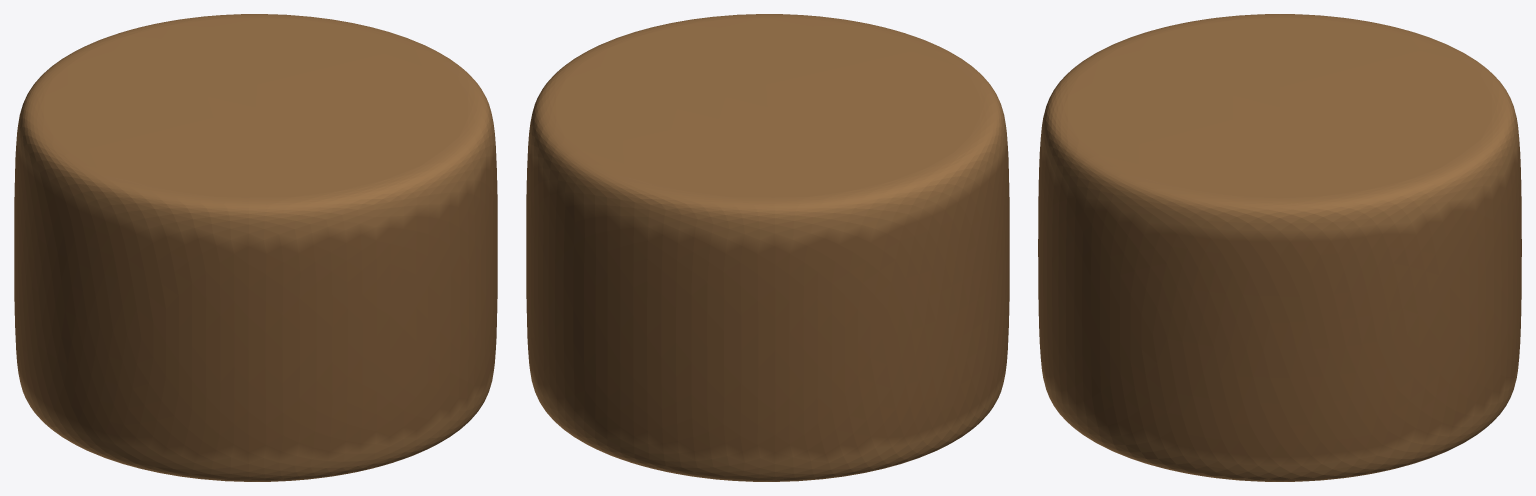
Rendered from palm-sugar.glb.
3 views of the same model, side by side, from view 1: azimuth 30°, elevation 25°; view 2: azimuth 150°, elevation 25°; view 3: azimuth 270°, elevation 25° (orthographic).
Parts seen in each view (by area): view 1: geometry_0; view 2: geometry_0; view 3: geometry_0.
Boxes of the visible parts, box(x1,y1,x2,y2) form: geometry_0: box(14, 14, 497, 481); geometry_0: box(526, 14, 1009, 481); geometry_0: box(1038, 14, 1521, 481).
Bounding box in the file's own units: 1.71 × 1.09 × 1.71.
